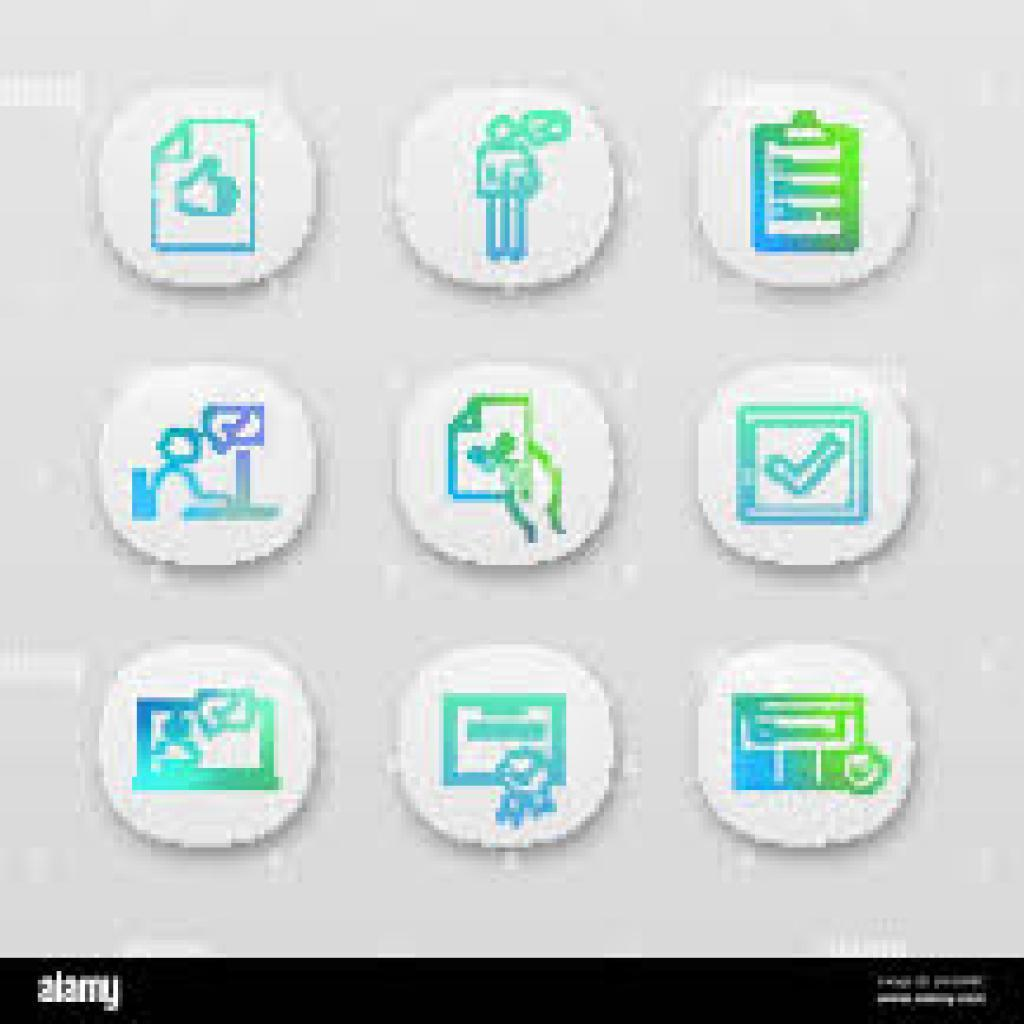checkbox: (740, 413, 869, 520)
icon: (134, 397, 287, 538), (445, 394, 576, 549), (721, 687, 889, 806), (434, 685, 576, 823), (135, 687, 289, 801), (149, 114, 265, 260), (474, 102, 570, 269), (749, 117, 865, 252)
